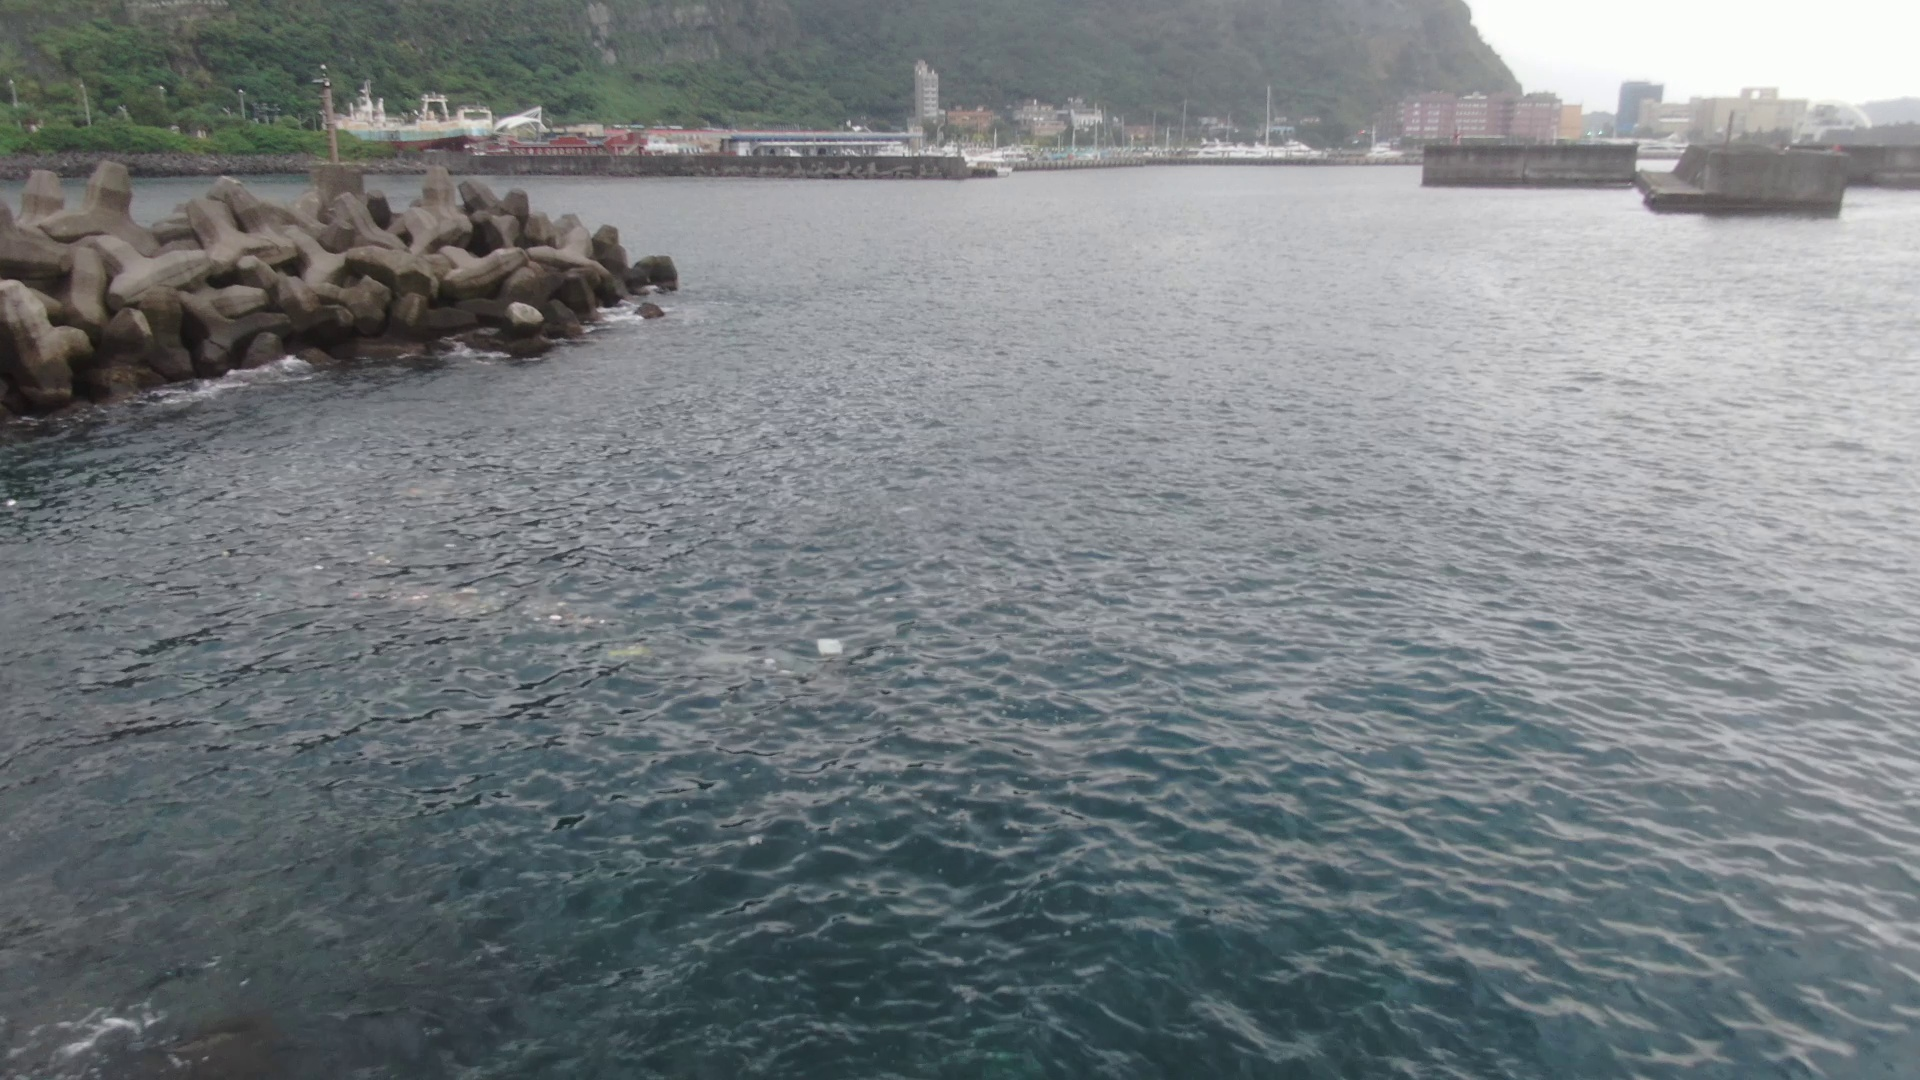garbage: (812, 632, 853, 659)
